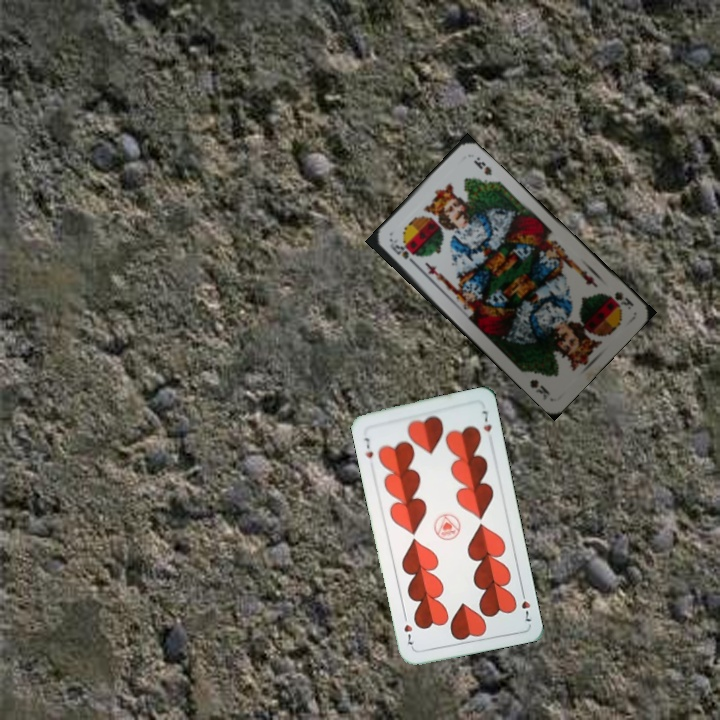H7: (517, 586, 534, 624), (361, 434, 376, 461)
SK: (385, 236, 419, 268), (605, 287, 637, 312)
